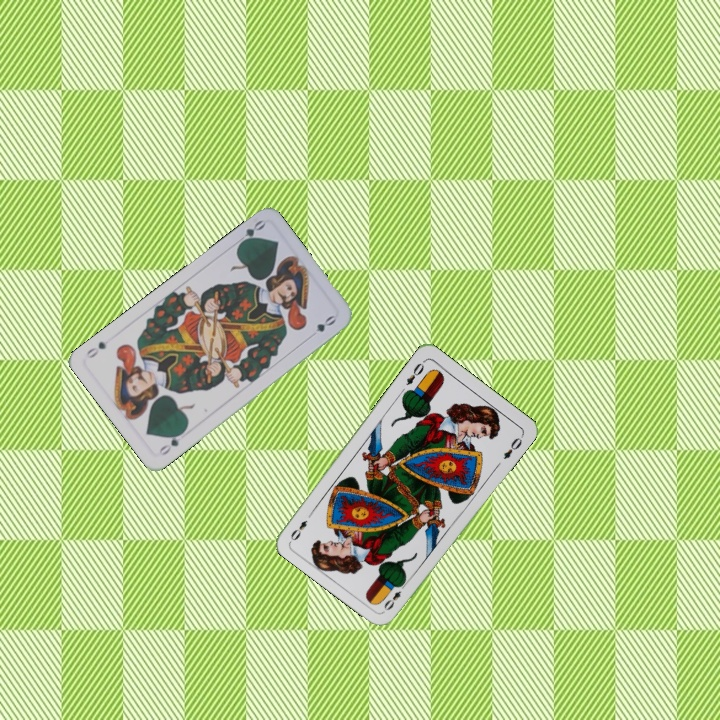EO: (380, 578, 409, 613), (402, 359, 427, 388)
GO: (231, 216, 268, 249), (154, 426, 188, 458)
